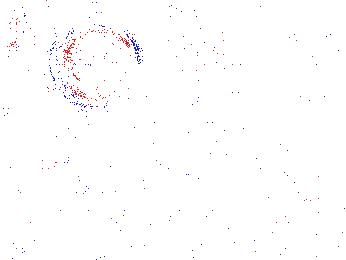moon jellyfish: (166, 41, 256, 132), (50, 20, 138, 107), (155, 8, 239, 78), (1, 32, 69, 96), (21, 1, 125, 42)
